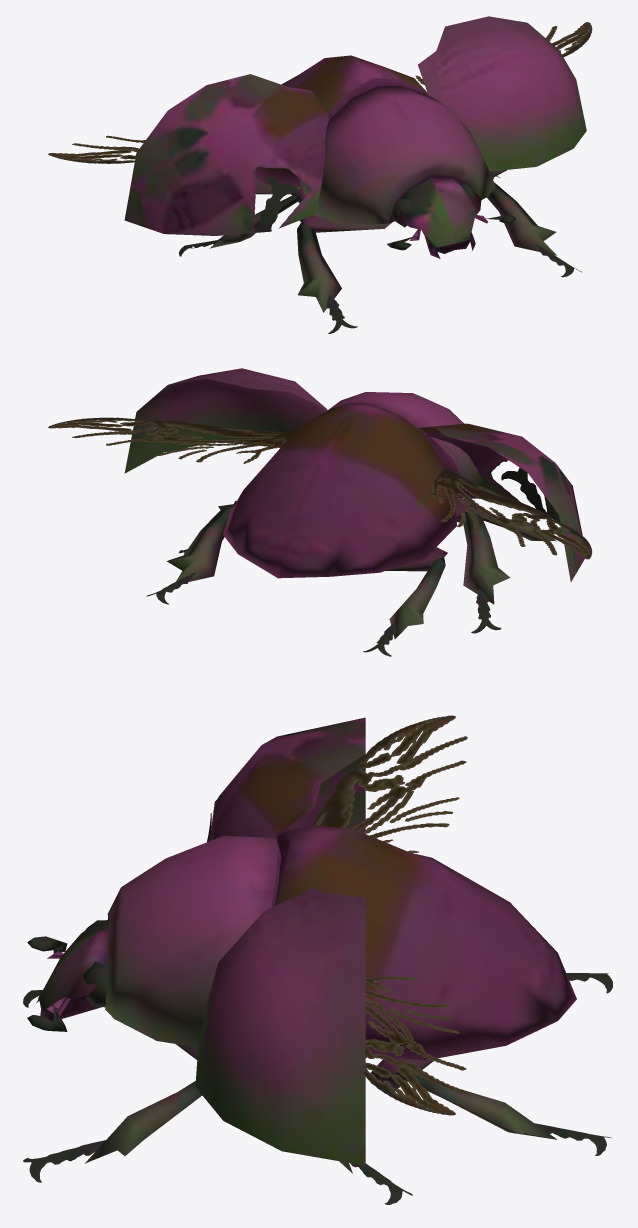
The model's file is earth-boring-dung-beetle.glb.
The picture shows the model from 3 angles, top to bottom: view 1: azimuth 30°, elevation 25°; view 2: azimuth 150°, elevation 25°; view 3: azimuth 270°, elevation 25°; orthographic projection. The views are drawn at different scales.
Bounding box in the file's own units: 4.83 × 1.37 × 2.77.
2 materials, 2 textured.
